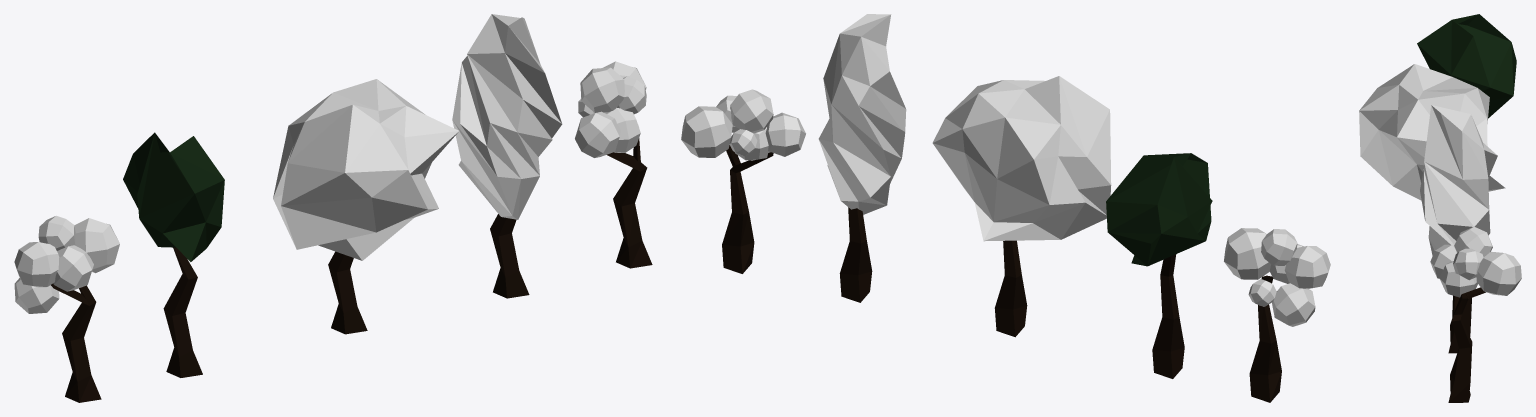
The model's file is TREE.FBX.
3 views of the same model, side by side, from view 1: azimuth 30°, elevation 25°; view 2: azimuth 150°, elevation 25°; view 3: azimuth 270°, elevation 25° (orthographic). The views are drawn at different scales.
Parts seen in each view (by area): view 1: GeoSphere003, GeoSphere004, GeoSphere001, Box011, Box001, Box005, Box003, Box002, Box004, Box008, Box016, Box013 (+5 smaller); view 2: GeoSphere003, GeoSphere004, GeoSphere001, Box011, Box001, Box005, Box002, Box015, Box003, Box008, Box004, Box016 (+5 smaller); view 3: GeoSphere003, GeoSphere004, GeoSphere001, Box011, Box015, Box016, Box018, Box014, Box013, Box003.
Part boxes in pixels (x1,y1,x2,y2): GeoSphere003: [273, 79, 458, 260]; GeoSphere004: [452, 14, 562, 219]; GeoSphere001: [123, 132, 224, 261]; Box011: [607, 138, 652, 268]; Box001: [163, 247, 202, 377]; Box005: [51, 283, 101, 402]; Box003: [490, 214, 529, 298]; Box002: [328, 251, 367, 334]; Box004: [14, 242, 59, 287]; Box008: [74, 218, 119, 273]; Box016: [580, 67, 624, 112]; Box013: [575, 111, 621, 157]; GeoSphere003: [932, 76, 1111, 241]; GeoSphere004: [818, 14, 906, 214]; GeoSphere001: [1106, 153, 1212, 266]; Box011: [722, 145, 773, 273]; Box001: [1152, 254, 1184, 378]; Box005: [1249, 275, 1281, 402]; Box002: [994, 240, 1027, 337]; Box015: [681, 106, 732, 157]; Box003: [839, 207, 872, 302]; Box008: [1224, 228, 1271, 279]; Box004: [1284, 246, 1330, 288]; Box016: [730, 89, 773, 133]; GeoSphere003: [1359, 64, 1505, 200]; GeoSphere004: [1420, 105, 1497, 255]; GeoSphere001: [1417, 14, 1516, 118]; Box011: [1448, 287, 1485, 402]; Box015: [1476, 251, 1521, 295]; Box016: [1454, 226, 1492, 257]; Box018: [1439, 261, 1477, 297]; Box014: [1453, 248, 1483, 280]; Box013: [1430, 244, 1456, 278]; Box003: [1448, 298, 1471, 353].
Bounding box in the file's own units: 215 × 90.19 × 56.21.
